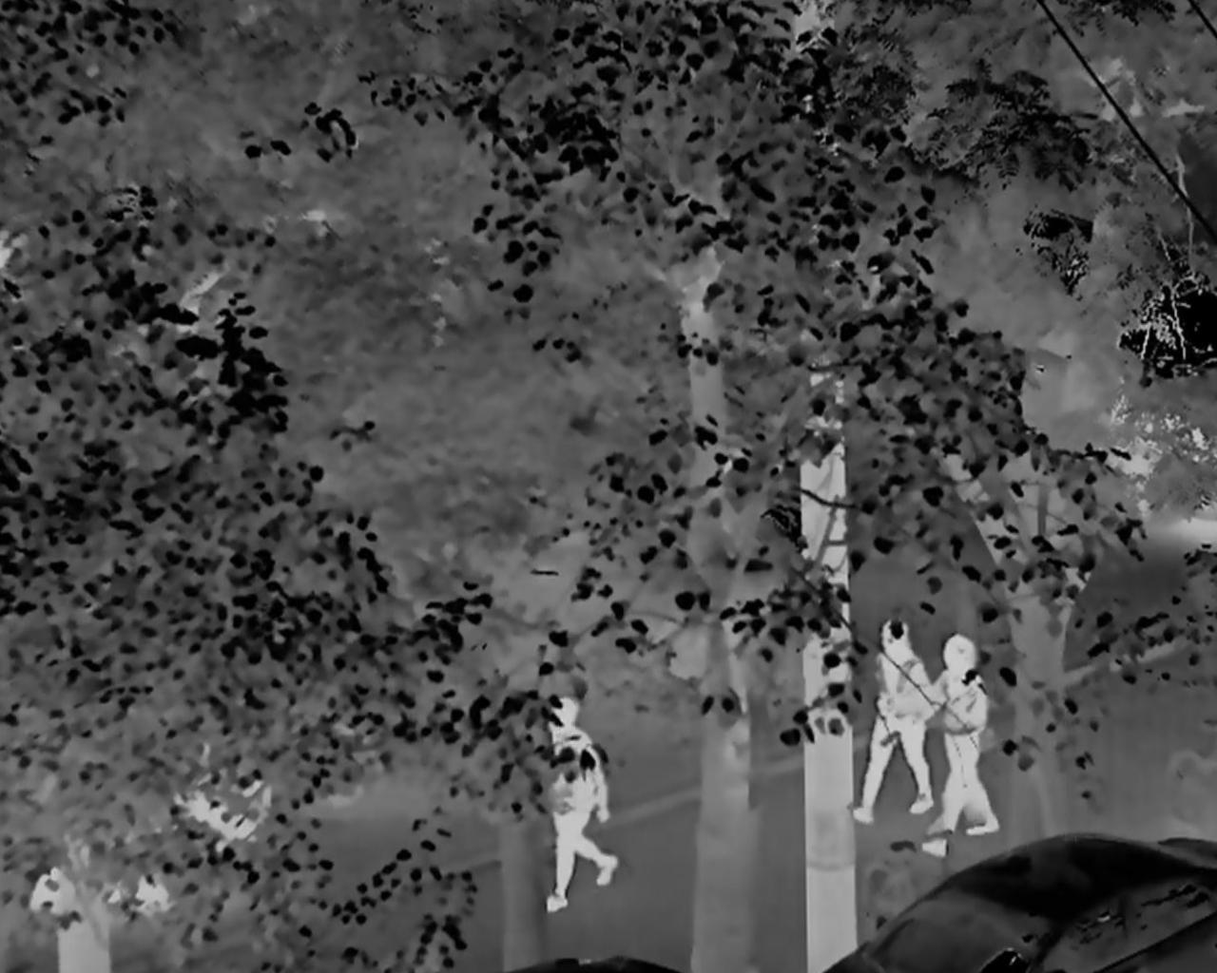person: (925, 637, 1002, 858), (856, 618, 935, 820), (545, 697, 619, 908)
